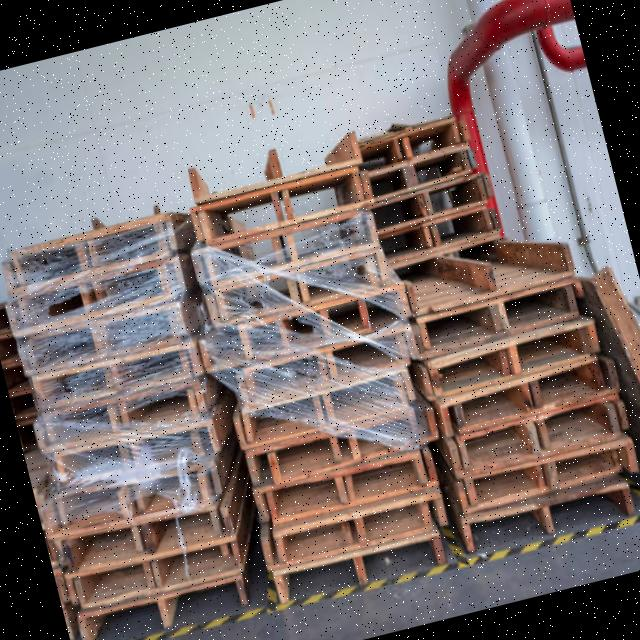Wooden-Pallets: (414, 304, 612, 408), (0, 210, 183, 302), (441, 388, 635, 474), (0, 256, 187, 344), (253, 444, 437, 532), (264, 523, 446, 610), (194, 164, 370, 252), (260, 484, 444, 568), (457, 474, 640, 557), (65, 529, 248, 610), (415, 272, 591, 356), (72, 565, 259, 640), (374, 194, 506, 262)
